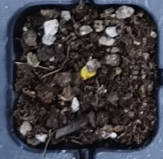pepper seed: (30, 24, 128, 105)
